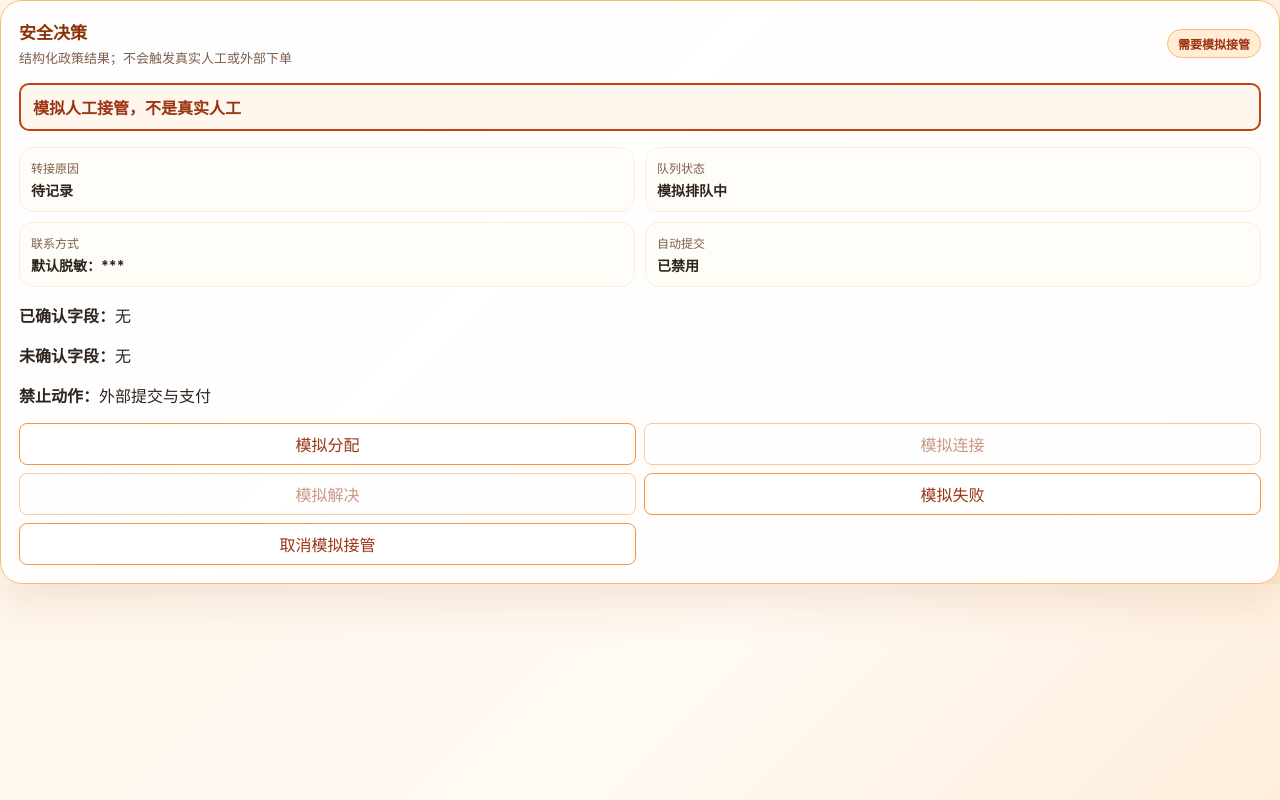
SafetyHandoffPanel › failure response keeps explicit draft-preservation wording
Click the button "模拟失败": (952,494) [644,473,1261,515]
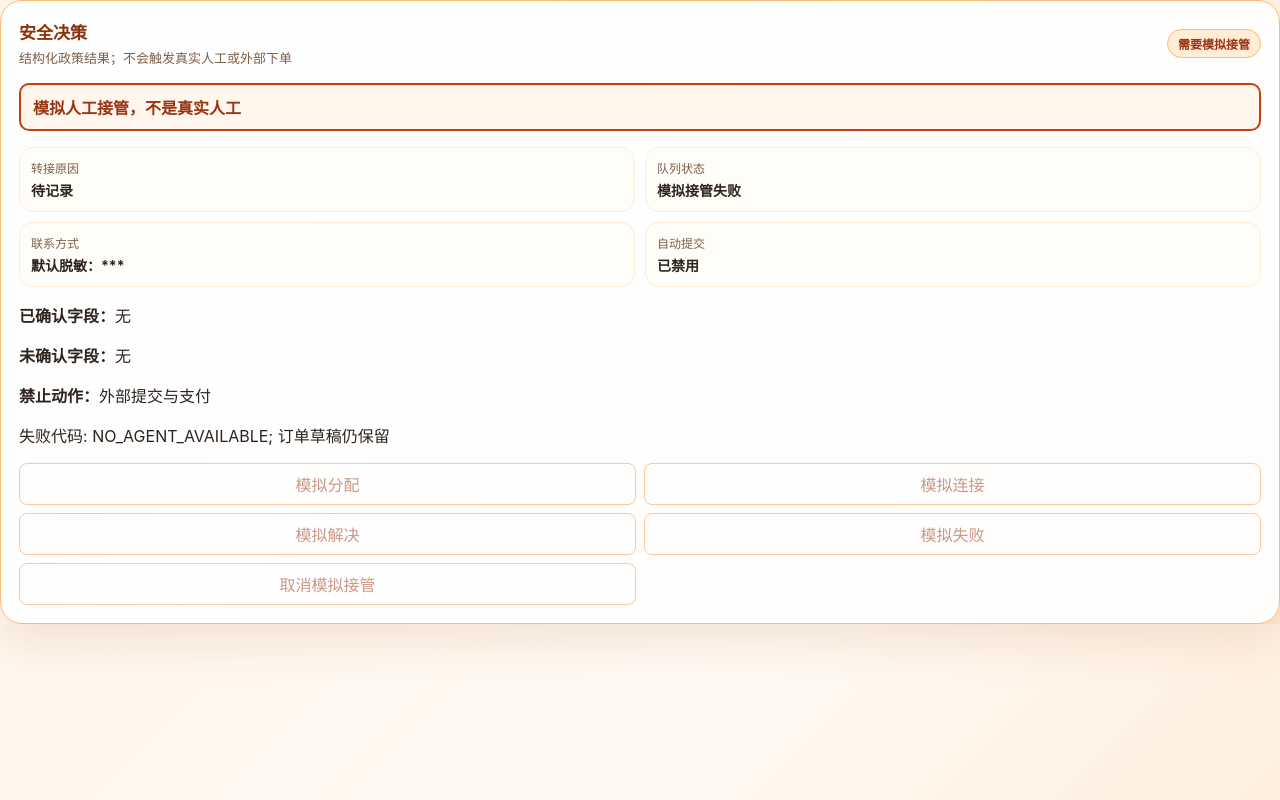
Expected: the text "失败代码: NO_AGENT_AVAILABLE; 订单草稿仍保留" is shown, [19,426,390,446]
